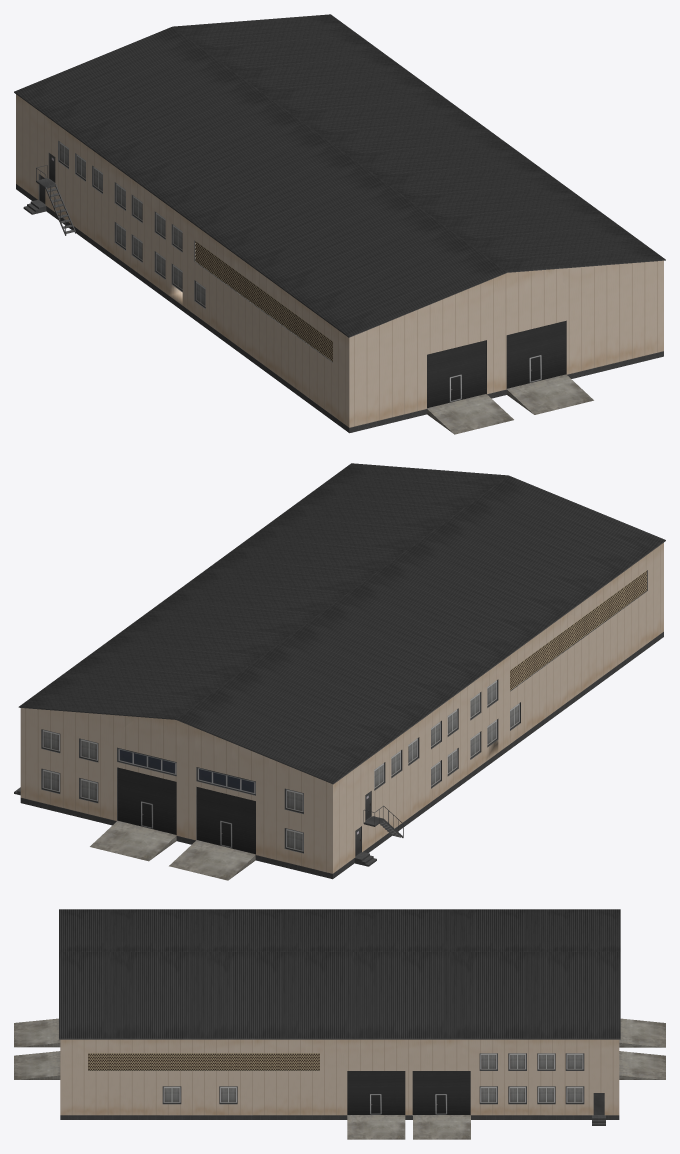
The model's file is plant-building4.glb.
3 views of the same model, one above another, from view 1: azimuth 30°, elevation 25°; view 2: azimuth 150°, elevation 25°; view 3: azimuth 270°, elevation 25° (orthographic). The views are drawn at different scales.
Parts seen in each view (by area): view 1: Box13959; view 2: Box13959; view 3: Box13959.
Part boxes in pixels (x1,y1,x2,y2): Box13959: (14,14,665,434); Box13959: (14,463,665,880); Box13959: (14,909,665,1139).
Bounding box in the file's own units: 33.51 × 10.51 × 59.84.
1 material, 1 textured.
